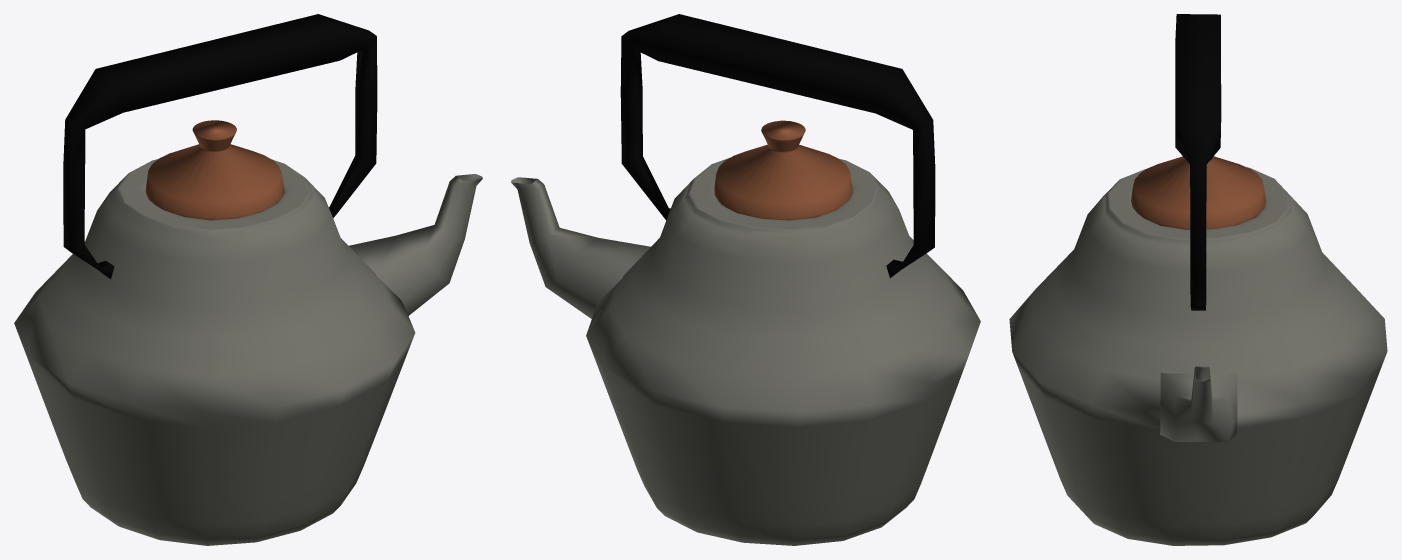
Rendered from Kettle.fbx.
3 renders of one model, left to right at view 1: azimuth 30°, elevation 25°; view 2: azimuth 150°, elevation 25°; view 3: azimuth 270°, elevation 25°, orthographic. The views are drawn at different scales.
Visible parts, largest first — view 1: Kettle, Handle, Lid, Front part; view 2: Kettle, Handle, Lid, Front part; view 3: Kettle, Handle, Lid, Front part.
Part boxes in pixels (left/top/right/bottom): Kettle: left=14, top=159, right=415, bottom=545; Handle: left=63, top=14, right=377, bottom=279; Lid: left=145, top=120, right=283, bottom=220; Front part: left=349, top=174, right=482, bottom=315; Kettle: left=586, top=158, right=980, bottom=545; Handle: left=620, top=14, right=935, bottom=278; Lid: left=714, top=120, right=852, bottom=220; Front part: left=511, top=177, right=650, bottom=318; Kettle: left=1009, top=167, right=1387, bottom=545; Handle: left=1175, top=14, right=1221, bottom=310; Lid: left=1131, top=156, right=1265, bottom=229; Front part: left=1160, top=366, right=1237, bottom=442.
Size of the model in its own units: 74.35 by 72.7 by 57.11.
